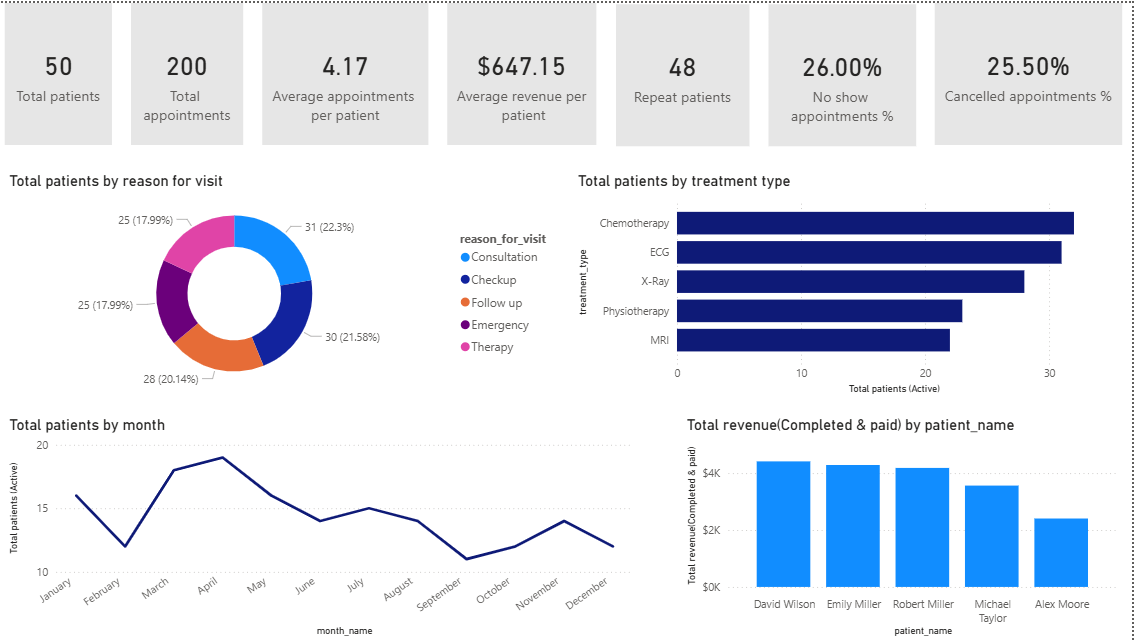

What the dashboard file says about the page in this screenshot:
{"tool":"powerbi","page":{"name":"Patient insights","canvas":[1280,720],"ordinal":2},"visuals":[{"type":"card","fields":{"Values":["Table.Total patients"]},"box":[9.7,0,120.8,159.7],"z":0},{"type":"card","fields":{"Values":["Table.Total appointments"]},"box":[152.1,0,126.4,159.7],"z":1000},{"type":"card","fields":{"Values":["Table.Average appointments per patient"]},"box":[300,0,187.5,159.7],"z":2000},{"type":"card","fields":{"Values":["Table.Average revenue per patient"]},"box":[509,0,168.1,159.7],"z":3000},{"type":"donutChart","title":"Total patients by reason for visit","fields":{"Category":["gold dim_reason_for_visit.reason_for_visit"],"Y":["Table.Total patients (Active)"]},"box":[9.7,190.3,630.6,255.6],"z":4000},{"type":"clusteredBarChart","title":"Total patients by treatment type","fields":{"Y":["Table.Total patients using key"],"Category":["gold dim_treatment_type.treatment_type"]},"box":[651.4,190.3,618.1,255.6],"z":5000},{"type":"lineChart","title":"Total patients by month","fields":{"Y":["Table.Total patients using key"],"Category":["gold dim_date.month_name"]},"box":[9.7,465.3,712.5,254.2],"z":6000},{"type":"card","fields":{"Values":["Table.Repeat patients"]},"box":[698.6,1.4,150,159.7],"z":7000},{"type":"card","fields":{"Values":["Table.No show %"]},"box":[870.1,1.4,166.7,159.7],"z":8000},{"type":"card","fields":{"Values":["Table.Cancelled appointments %"]},"box":[1058.3,0,211.1,159.7],"z":9000},{"type":"clusteredColumnChart","fields":{"Category":["gold dim_patients.patient_name"],"Y":["Table.Total revenue(Completed & paid)"]},"box":[773.6,465.3,495.8,254.2],"z":10000}]}

Visuals, with their boxes in screenshot pixels (x1, y1, x2, y2), scaled from the page's 1280x720 canvas onto the 1134x641 screenshot:
card - Table.Total patients: 9/0/116/142
card - Table.Total appointments: 135/0/247/142
card - Table.Average appointments per patient: 266/0/432/142
card - Table.Average revenue per patient: 451/0/600/142
"Total patients by reason for visit" donutChart: 9/169/567/397
"Total patients by treatment type" clusteredBarChart: 577/169/1125/397
"Total patients by month" lineChart: 9/414/640/640
card - Table.Repeat patients: 619/1/752/143
card - Table.No show %: 771/1/919/143
card - Table.Cancelled appointments %: 938/0/1125/142
clusteredColumnChart - gold dim_patients.patient_name x Table.Total revenue(Completed & paid): 685/414/1125/640
